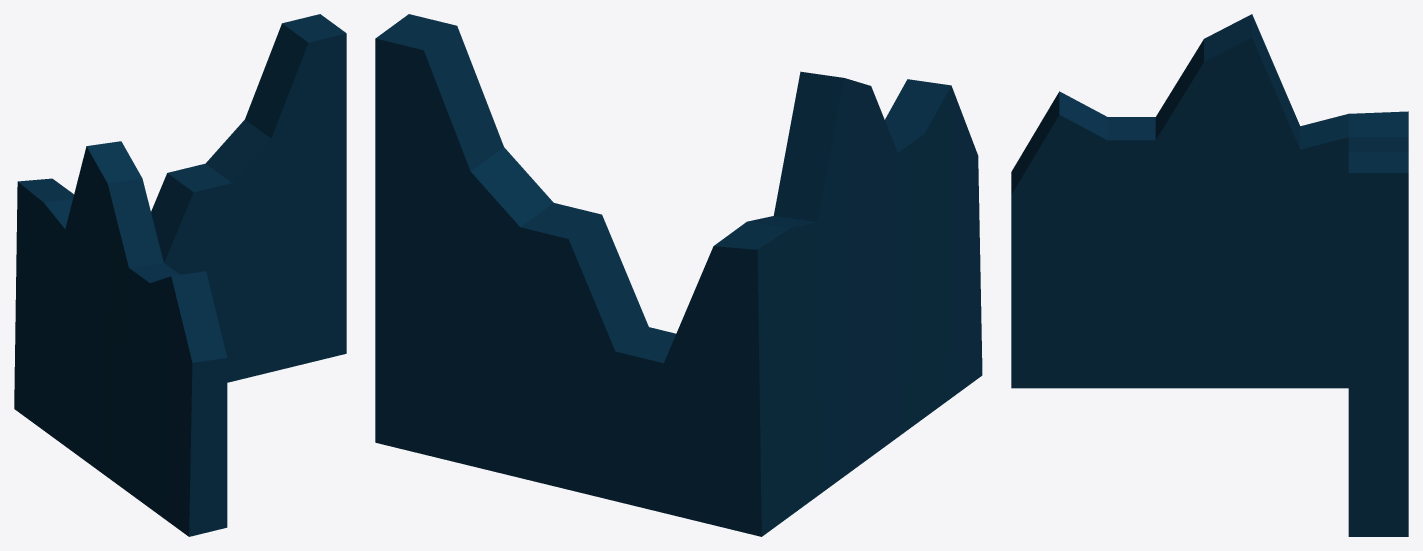
File: IsometricTile_Dark_Wall_Corner.fbx
3 views of the same model, side by side, from view 1: azimuth 30°, elevation 25°; view 2: azimuth 150°, elevation 25°; view 3: azimuth 270°, elevation 25° (orthographic). The views are drawn at different scales.
Parts seen in each view (by area): view 1: Cube; view 2: Cube; view 3: Cube.
Part boxes in pixels (bbox=[...]): Cube: bbox=[14, 14, 346, 536]; Cube: bbox=[375, 14, 982, 536]; Cube: bbox=[1011, 14, 1408, 536].
Bounding box in the file's own units: 0.9897 × 1 × 1.
